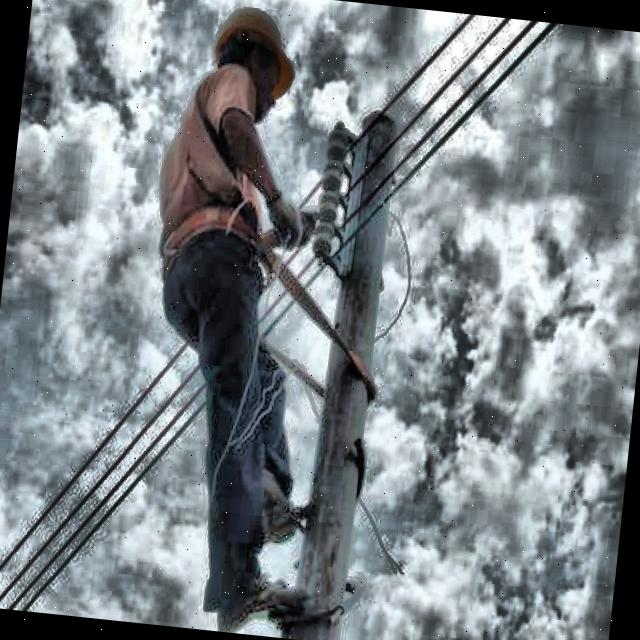helmet: (203, 0, 307, 128)
